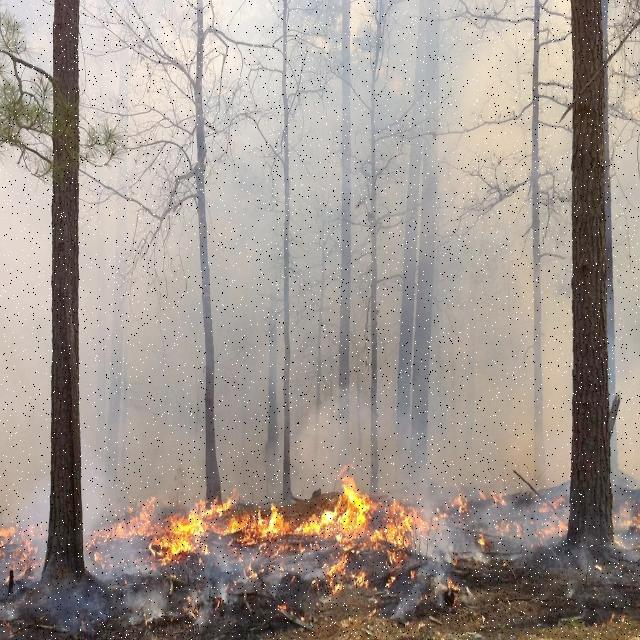fire: (173, 478, 240, 526), (138, 514, 208, 559), (336, 474, 371, 538), (386, 504, 423, 556), (92, 506, 158, 530), (256, 502, 290, 540)
smoke: (105, 58, 559, 472)
